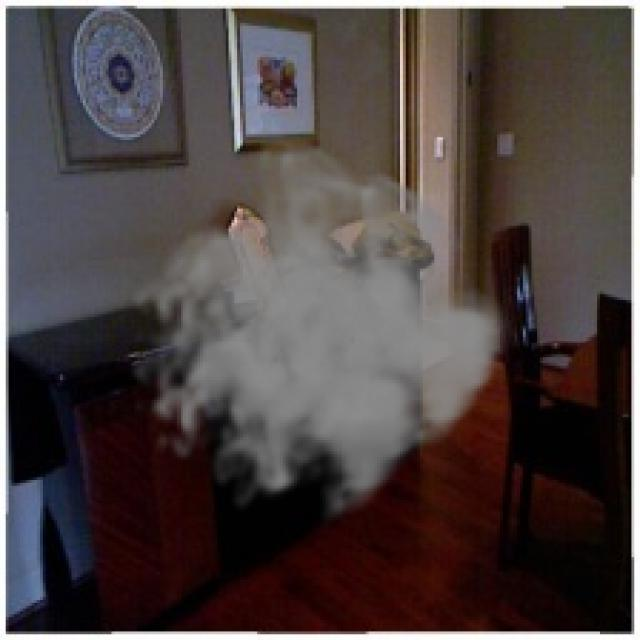Smoke: (128, 132, 512, 534)
